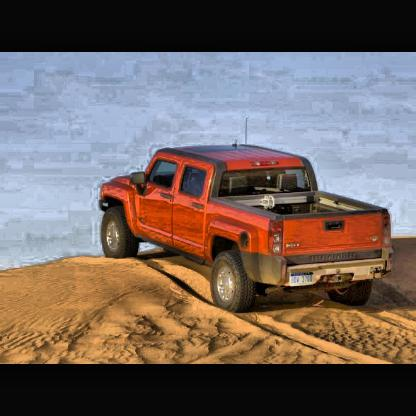HUMMER H3T Crew Cab 2010: (102, 118, 394, 315)
